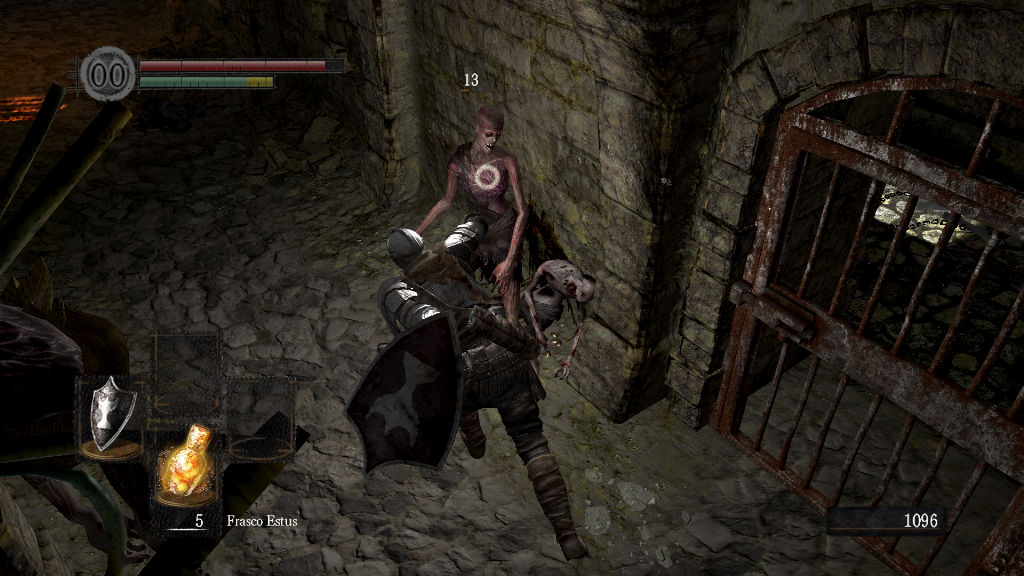health: (138, 58, 343, 71)
hollow: (408, 102, 531, 351)
humanity: (80, 45, 136, 102)
player: (344, 226, 595, 563)
souls: (825, 506, 945, 536)
stamina: (138, 74, 274, 88)
